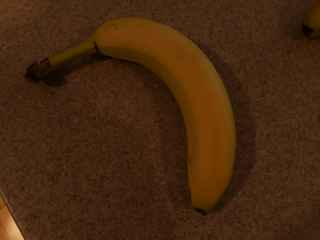banana: (25, 16, 240, 219)
